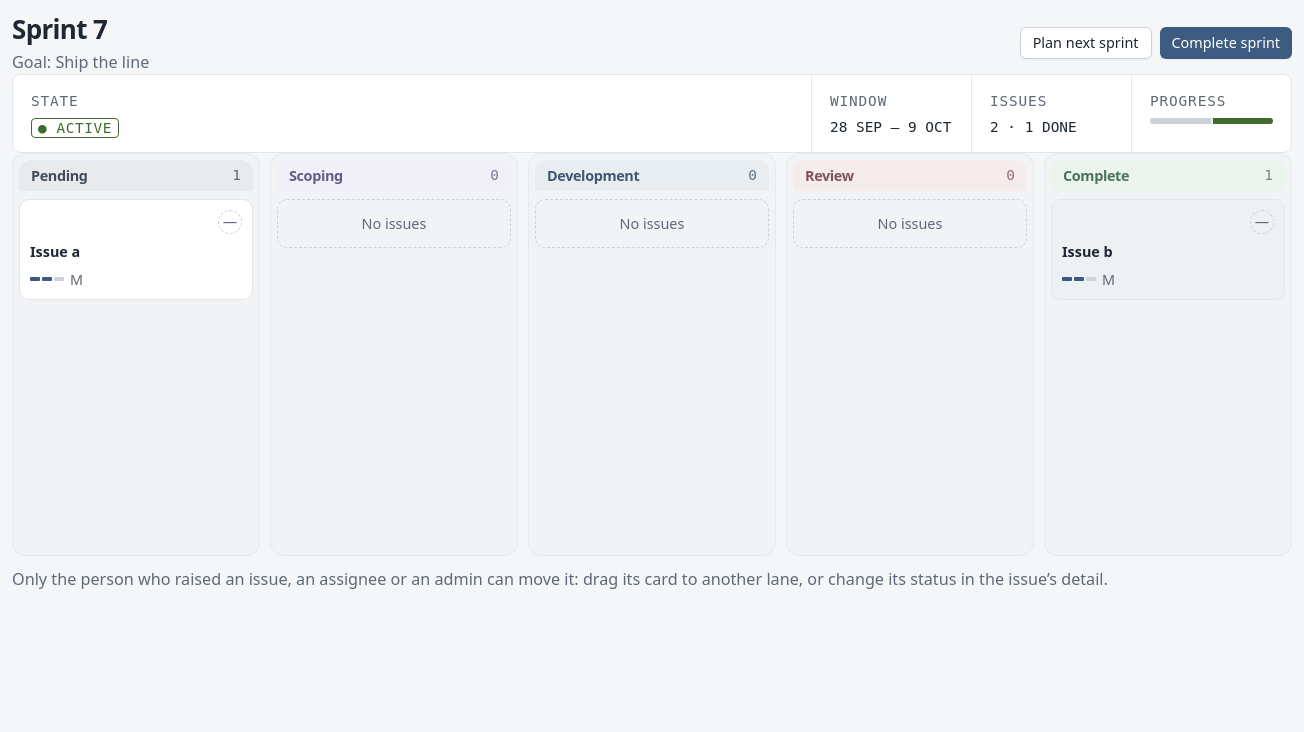
it: Add New Sprint › requires a name, a start and an end, and sends nothing
Click the button "Plan next sprint" at (1086, 43), box [1020,27,1152,59]
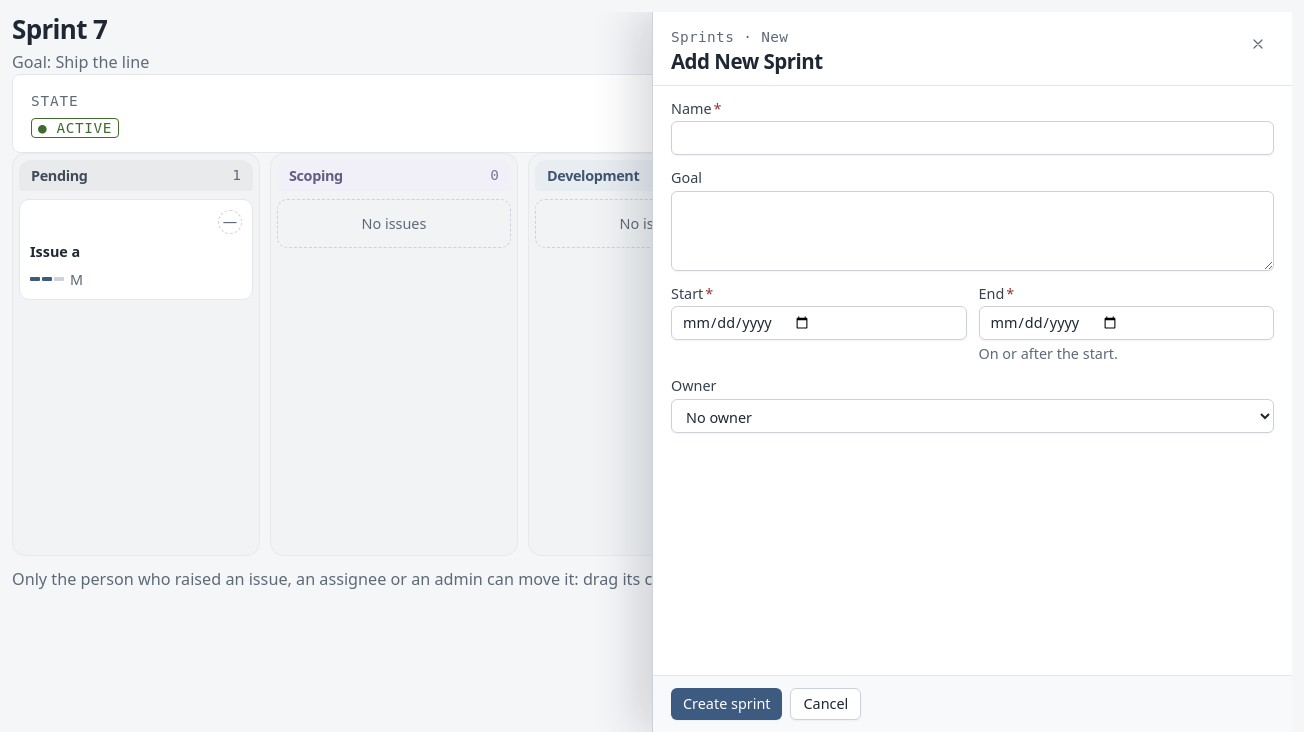
Click the button "Create sprint" at (727, 704), box [671,688,782,720]
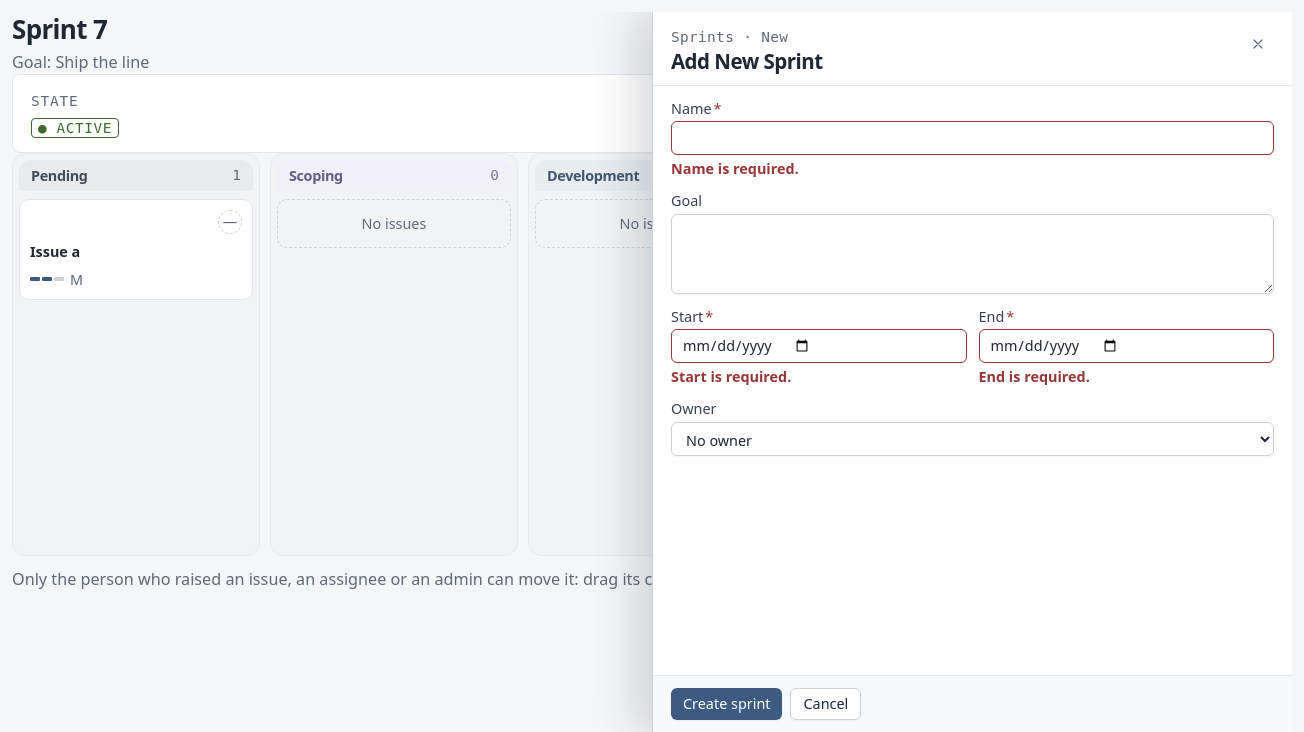
Now the text "Name is required." is shown, box [671,159,799,178]
Now the text "Start is required." is shown, box [671,367,791,386]
Now the text "End is required." is shown, box [978,367,1090,386]
